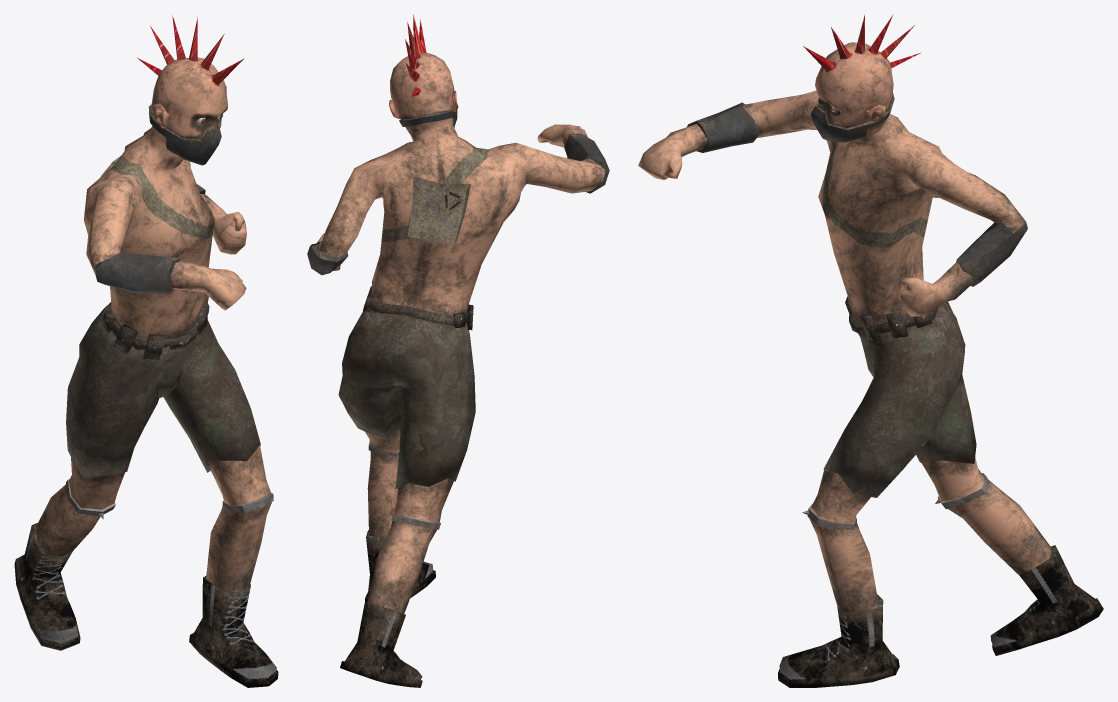
Rendered from Anim_ataque_d2_npc2.0024.obj.
3 renders of one model, left to right at view 1: azimuth 30°, elevation 25°; view 2: azimuth 150°, elevation 25°; view 3: azimuth 270°, elevation 25°, orthographic. The views are drawn at different scales.
Parts seen in each view (by area): view 1: polySurface1; view 2: polySurface1; view 3: polySurface1.
Boxes of the visible parts, x1,y1,x2,y2 form: polySurface1: (14,15,278,687); polySurface1: (307,14,609,687); polySurface1: (638,15,1103,687).
Bounding box in the file's own units: 3.62 × 9.84 × 6.19.
